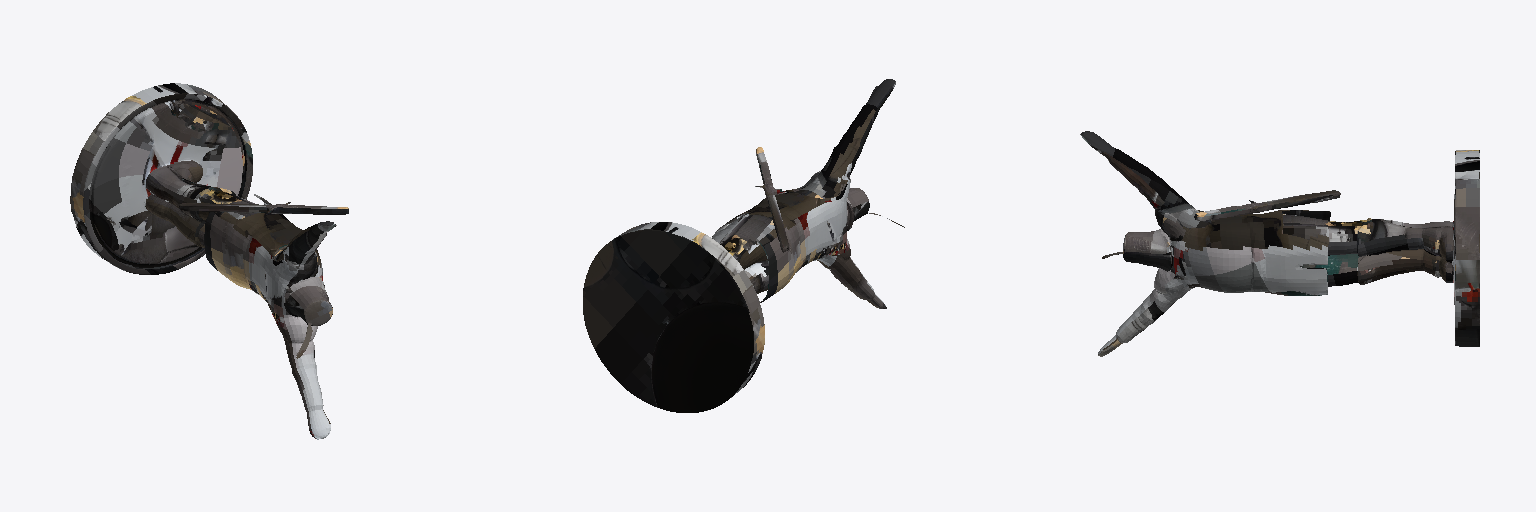
3 views of the same model, side by side, from view 1: azimuth 30°, elevation 25°; view 2: azimuth 150°, elevation 25°; view 3: azimuth 270°, elevation 25° (orthographic).
Parts seen in each view (by area): view 1: model; view 2: model; view 3: model.
Boxes of the visible parts, x1=… form: model: x1=70, y1=83, x2=348, y2=439; model: x1=583, y1=79, x2=904, y2=412; model: x1=1080, y1=131, x2=1479, y2=356.
Size of the model in its own units: 0.9376 by 1.17 by 1.89.
Materials: 1 (1 with a texture image).